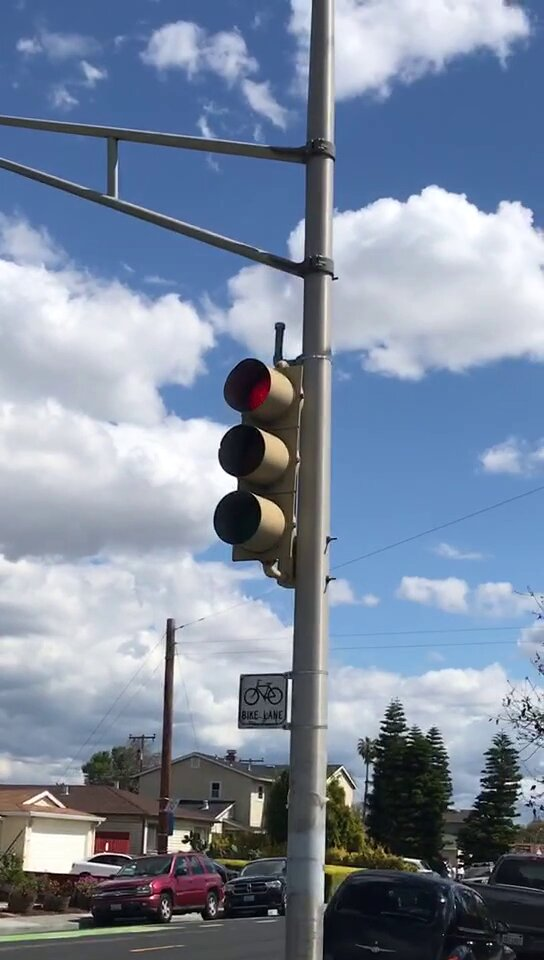red_light: (222, 359, 274, 546)
